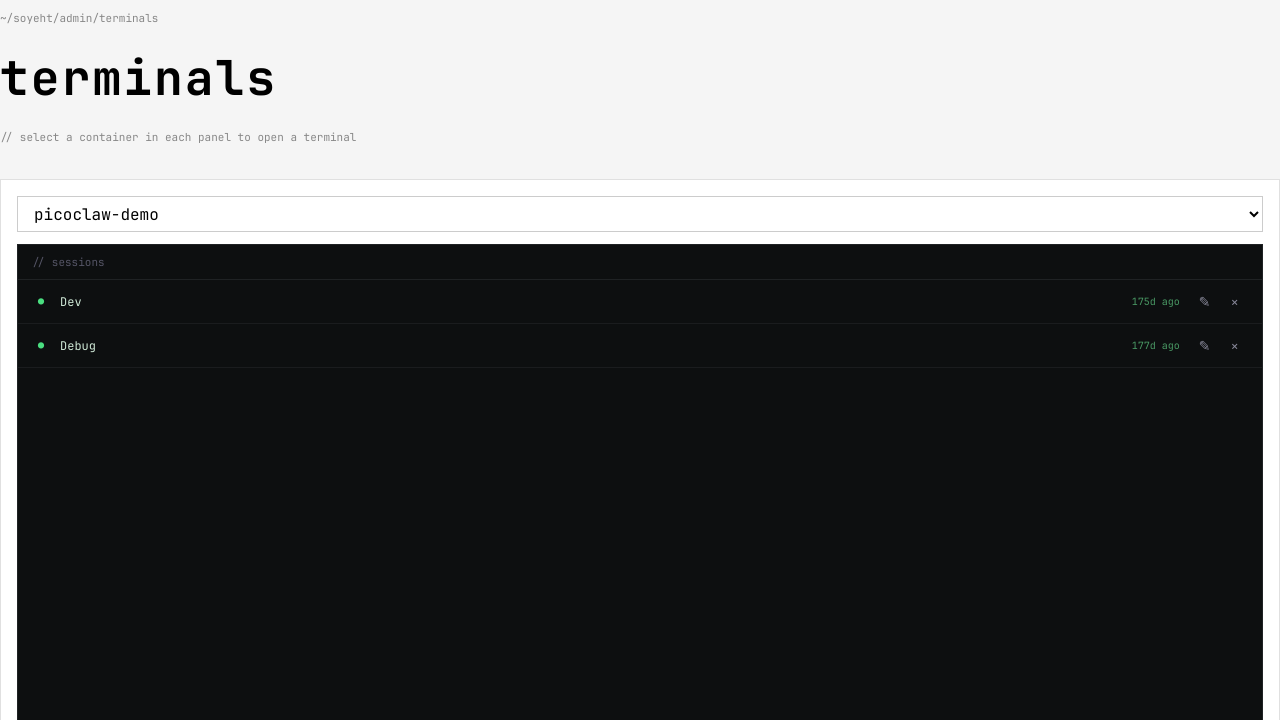
Test case: Session picker (multi-workspace) › delete active session shows warning confirm
Click the button with test id "delete-ws-1". click: {"x": 1235, "y": 302}
box: x1=1222 y1=290 x2=1248 y2=314
(page scrolled)
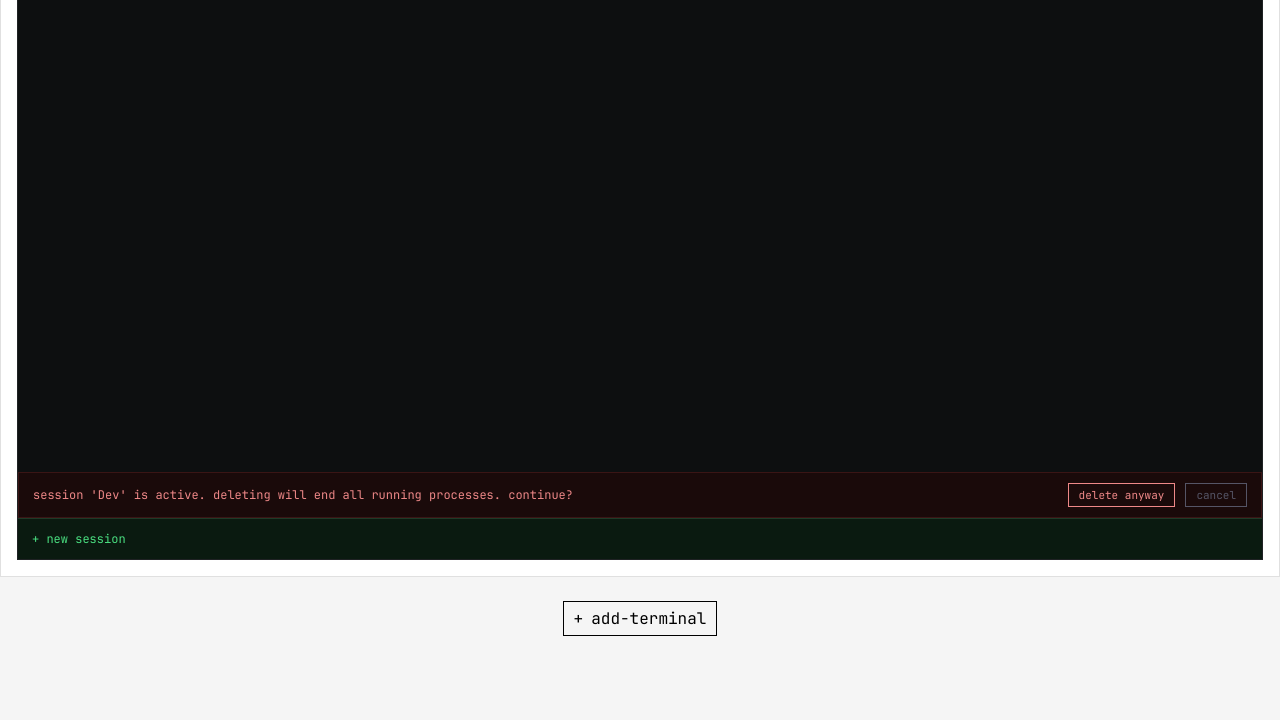
Now the element with test id "confirm-delete" is shown, box x1=18 y1=472 x2=1262 y2=518
Now the element with test id "confirm-delete" shows "active", box x1=33 y1=487 x2=573 y2=503
Now the element with test id "confirm-delete" shows "delete anyway", box x1=1068 y1=483 x2=1175 y2=507
